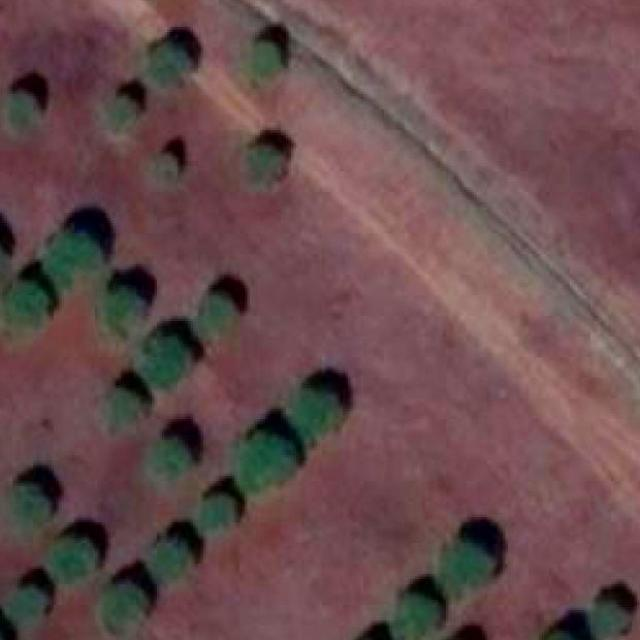Tree: (40, 228, 102, 285), (240, 432, 296, 492), (144, 334, 195, 392), (288, 388, 340, 443), (441, 543, 490, 598), (99, 582, 144, 637), (2, 280, 49, 329), (99, 290, 144, 340), (7, 483, 49, 533), (8, 584, 46, 634), (50, 536, 92, 580), (152, 541, 193, 585), (395, 594, 434, 640), (195, 293, 234, 338), (105, 388, 142, 433), (590, 600, 632, 639), (149, 437, 188, 476), (152, 42, 193, 78), (247, 143, 286, 180), (250, 40, 286, 78), (198, 496, 238, 530), (7, 89, 38, 128), (108, 97, 136, 131), (154, 150, 177, 177), (546, 627, 588, 640), (0, 238, 11, 287)
